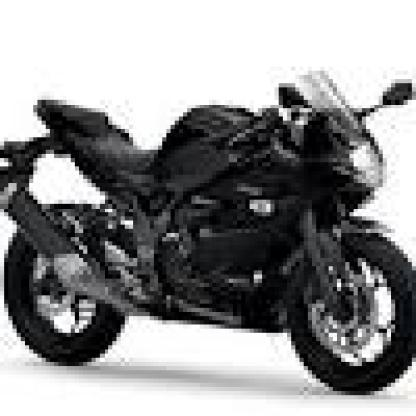Motorcycle: (4, 64, 415, 395)
